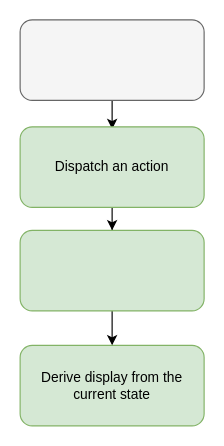
Some shapes in this 224 by 446 pixel diagram are drawn without their labels. Here are the shapes that lost their labels. From the top down, the box of each, then its label:
(19, 19, 204, 100): User Action
(19, 229, 204, 311): Reduce new state from current state and action
